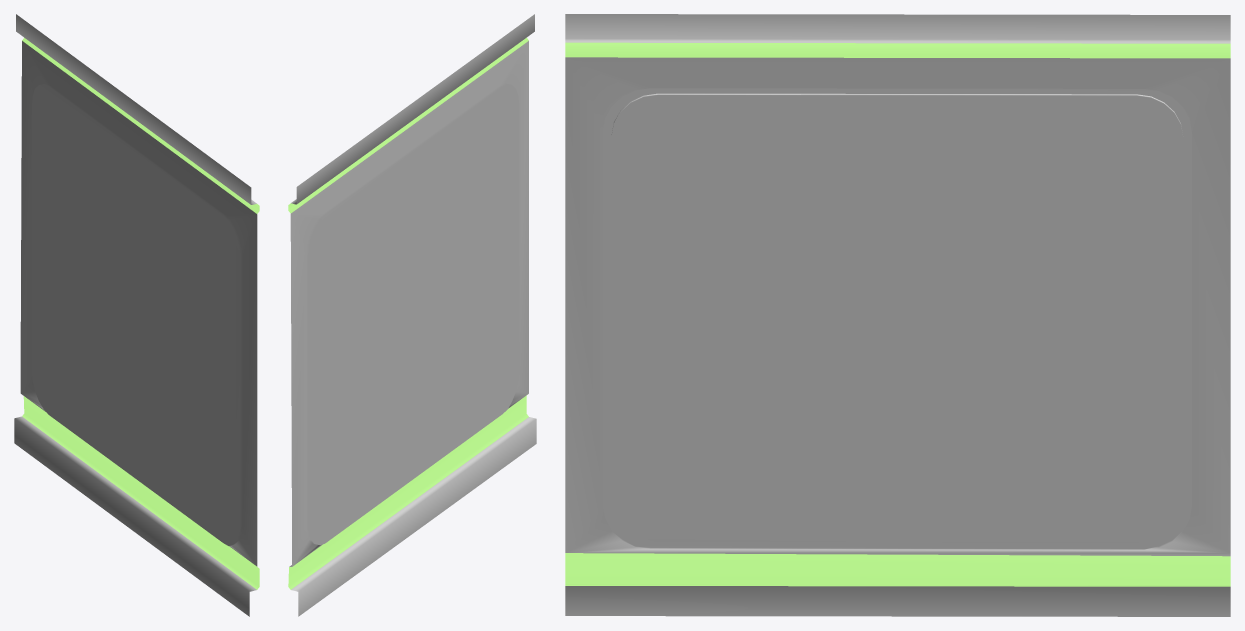
The model's file is sm_wall_white.glb.
3 renders of one model, left to right at view 1: azimuth 30°, elevation 25°; view 2: azimuth 150°, elevation 25°; view 3: azimuth 270°, elevation 25°, orthographic. The views are drawn at different scales.
Parts seen in each view (by area): view 1: Wall_White; view 2: Wall_White; view 3: Wall_White.
Boxes of the visible parts, x1,y1,x2,y2 form: Wall_White: (14,14,259,616); Wall_White: (288,14,536,616); Wall_White: (565,14,1230,616).
Bounding box in the file's own units: 0.0551 × 2 × 2.
